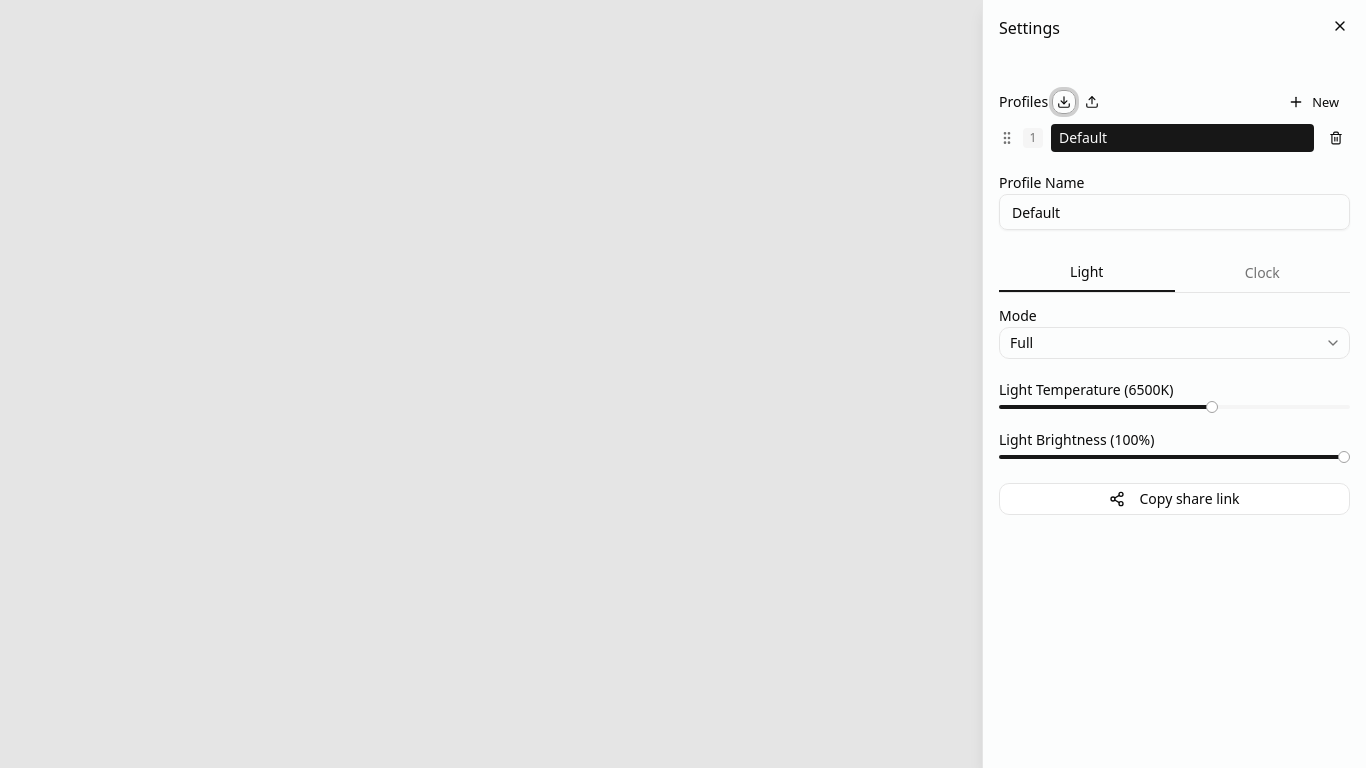
Test: SettingsModal › renaming the profile name input updates the store on blur
This screenshot has width=1366, height=768.
Replace the text in the field labelled "Profile Name" with "Studio" at (1174, 212), box [999,194,1350,230]
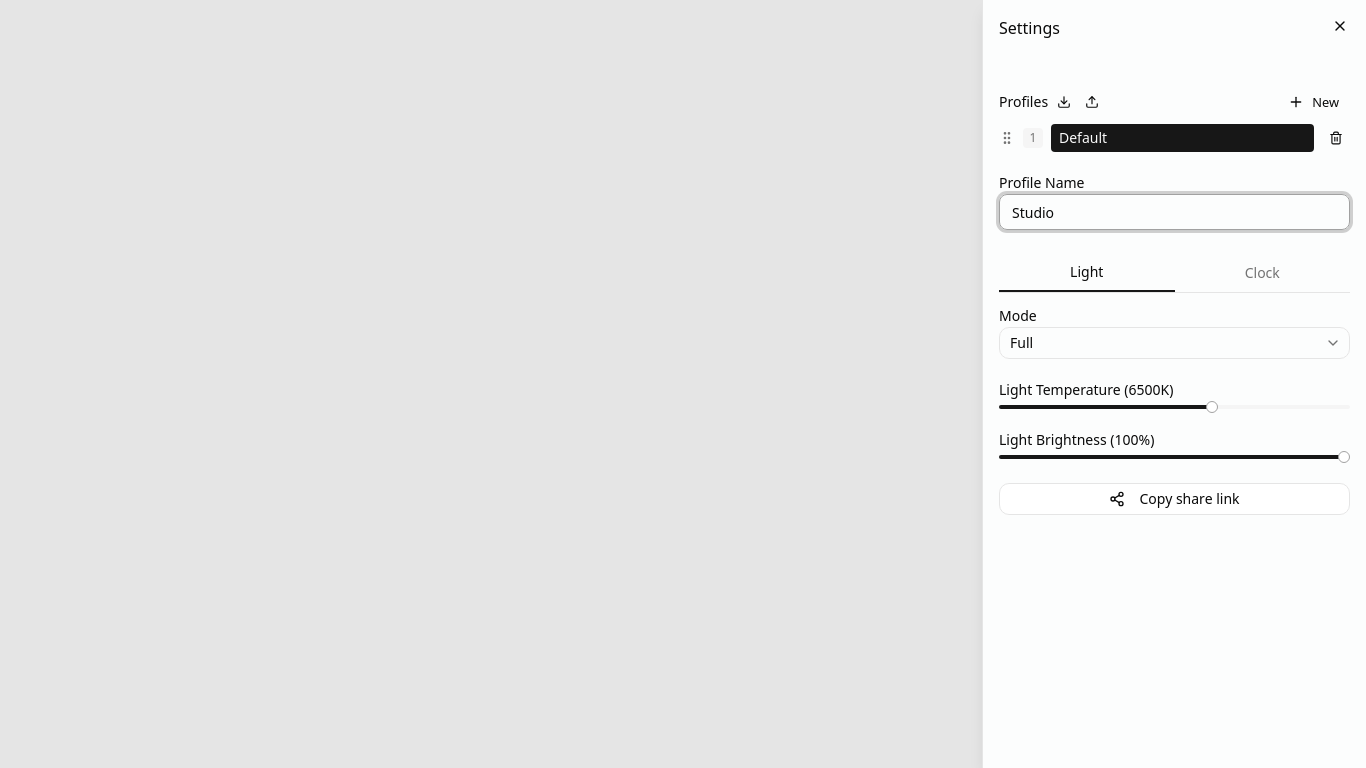
Press Tab
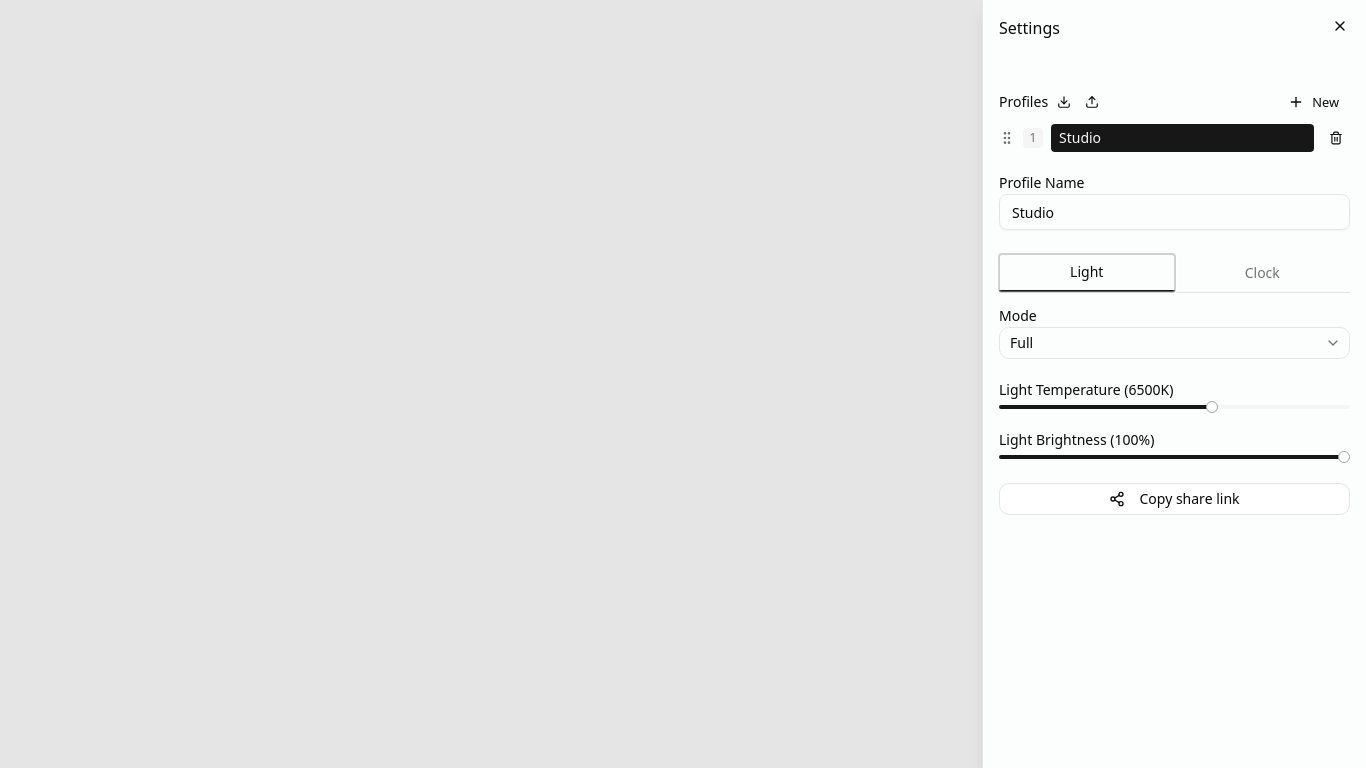
Result: the button "Studio" is shown at [1051,124,1314,152]
